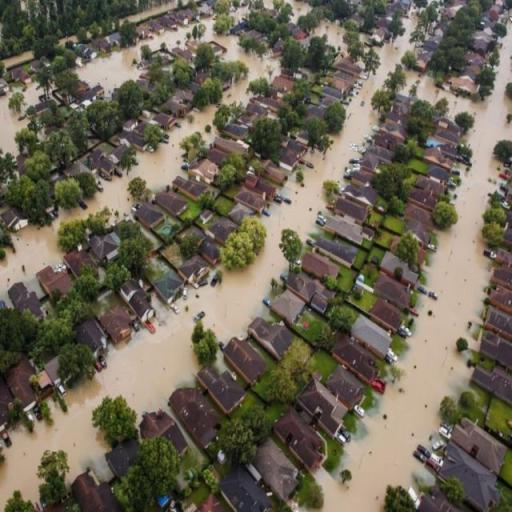flood: (0, 31, 410, 508), (321, 23, 512, 512), (0, 106, 217, 304), (76, 27, 191, 92), (203, 18, 280, 104), (0, 91, 26, 152), (315, 21, 347, 52), (285, 0, 313, 23), (22, 83, 42, 104)
house: (432, 448, 507, 512), (294, 378, 357, 437), (273, 409, 331, 470), (450, 419, 512, 470), (171, 389, 220, 448), (219, 335, 274, 384), (250, 443, 298, 498), (198, 365, 251, 414), (74, 467, 126, 512), (219, 467, 271, 512), (332, 336, 382, 382), (348, 313, 398, 358), (248, 317, 297, 360), (140, 410, 188, 452), (463, 368, 512, 407), (4, 364, 42, 414), (34, 262, 76, 304), (325, 365, 366, 408), (6, 277, 42, 325), (120, 280, 156, 324), (378, 251, 420, 286), (323, 215, 367, 247), (73, 320, 109, 356), (372, 296, 406, 334), (478, 330, 512, 368), (300, 250, 342, 280), (98, 308, 134, 342), (424, 138, 459, 171), (154, 268, 184, 306), (102, 441, 140, 470), (178, 254, 210, 288), (482, 304, 512, 338), (186, 155, 218, 186), (271, 290, 304, 320), (134, 201, 167, 231), (406, 201, 436, 232), (156, 190, 190, 216), (256, 158, 290, 184), (289, 273, 317, 304), (88, 230, 118, 258), (174, 175, 208, 199), (364, 143, 392, 172), (89, 152, 117, 181), (62, 248, 93, 274), (210, 136, 250, 156), (336, 197, 370, 220), (416, 173, 446, 198), (235, 187, 266, 211), (453, 69, 480, 96), (198, 238, 223, 265), (120, 132, 150, 154), (0, 208, 28, 230), (490, 285, 512, 310), (229, 203, 253, 225), (339, 60, 363, 82), (253, 180, 277, 202), (254, 96, 281, 114), (81, 85, 106, 104), (322, 85, 348, 103), (154, 112, 180, 130), (490, 265, 512, 286), (224, 122, 248, 141), (284, 141, 308, 159), (380, 122, 406, 138), (350, 168, 370, 188), (206, 225, 228, 242), (415, 51, 431, 74), (150, 47, 176, 61), (108, 146, 128, 164), (172, 99, 190, 119), (392, 96, 411, 114), (493, 246, 512, 264), (390, 0, 412, 15), (160, 15, 180, 30), (472, 39, 489, 56), (13, 68, 31, 84), (294, 26, 310, 41), (106, 33, 122, 48), (94, 38, 110, 53), (371, 28, 385, 44), (234, 20, 250, 34), (179, 50, 194, 64), (84, 46, 98, 60), (138, 26, 152, 40), (270, 46, 283, 58), (489, 6, 501, 16)
